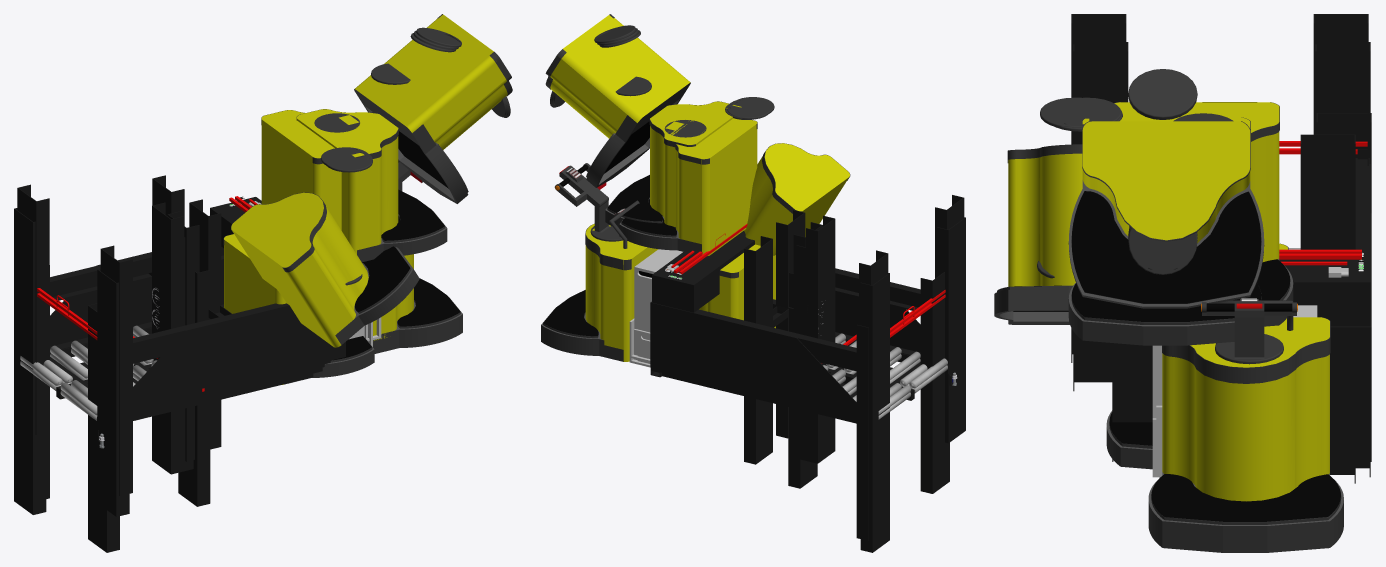
File: PUTEST.glb
3 renders of one model, left to right at view 1: azimuth 30°, elevation 25°; view 2: azimuth 150°, elevation 25°; view 3: azimuth 270°, elevation 25°, orthographic. The views are drawn at different scales.
Visible parts, largest first — view 1: G-.005, G-.010, G-Object.320, G-.007, G-.018, G-.087, G-.049, G-.067, G-.036, G-.086, G-.002, G-.052 (+13 smaller); view 2: G-Object.319, G-.010, G-.018, G-.005, G-.007, G-Object.350, _G-Object.273 (Loose Mesh), G-.047, G-.049, G-.087, G-.066, G-.067 (+17 smaller); view 3: G-.002, G-.010, G-Object.350, G-.005, _G-Object.273 (Loose Mesh), G-.066, G-.007, G-.018, G-.052, G-.086, G-.012, G-.036 (+13 smaller).
Part boxes in pixels (x1=…): G-.005: x1=231, y1=192, x2=419, y2=347; G-.010: x1=354, y1=14, x2=512, y2=203; G-Object.320: x1=133, y1=305, x2=345, y2=413; G-.007: x1=296, y1=109, x2=447, y2=262; G-.018: x1=261, y1=110, x2=399, y2=238; G-.087: x1=97, y1=269, x2=129, y2=516; G-.049: x1=14, y1=208, x2=46, y2=455; G-.067: x1=152, y1=227, x2=184, y2=474; G-.036: x1=223, y1=234, x2=374, y2=384; G-.086: x1=100, y1=245, x2=132, y2=495; G-.002: x1=373, y1=254, x2=462, y2=348; G-.052: x1=17, y1=184, x2=49, y2=435; G-Object.319: x1=650, y1=302, x2=864, y2=418; G-.010: x1=545, y1=14, x2=690, y2=187; G-.018: x1=619, y1=118, x2=757, y2=255; G-.005: x1=744, y1=143, x2=850, y2=255; G-.007: x1=605, y1=101, x2=741, y2=228; G-Object.350: x1=650, y1=231, x2=948, y2=423; _G-Object.273 (Loose Mesh): x1=541, y1=240, x2=658, y2=361; G-.047: x1=920, y1=272, x2=949, y2=493; G-.049: x1=860, y1=272, x2=889, y2=498; G-.087: x1=936, y1=217, x2=965, y2=443; G-.066: x1=744, y1=236, x2=772, y2=464; G-.067: x1=806, y1=238, x2=835, y2=463; G-.002: x1=1148, y1=317, x2=1343, y2=545; G-.010: x1=1068, y1=121, x2=1264, y2=308; G-Object.350: x1=1113, y1=249, x2=1370, y2=443; G-.005: x1=994, y1=144, x2=1082, y2=324; _G-Object.273 (Loose Mesh): x1=1148, y1=345, x2=1343, y2=552; G-.066: x1=1300, y1=134, x2=1355, y2=483; G-.007: x1=1068, y1=117, x2=1261, y2=345; G-.018: x1=1114, y1=102, x2=1293, y2=326; G-.052: x1=1313, y1=14, x2=1368, y2=165; G-.086: x1=1071, y1=14, x2=1126, y2=362; G-.012: x1=1128, y1=69, x2=1197, y2=119; G-.036: x1=1106, y1=243, x2=1288, y2=469.
Bounding box in the file's own units: 3.22 × 3.18 × 1.71.
Materials: 35 (10 with a texture image).
